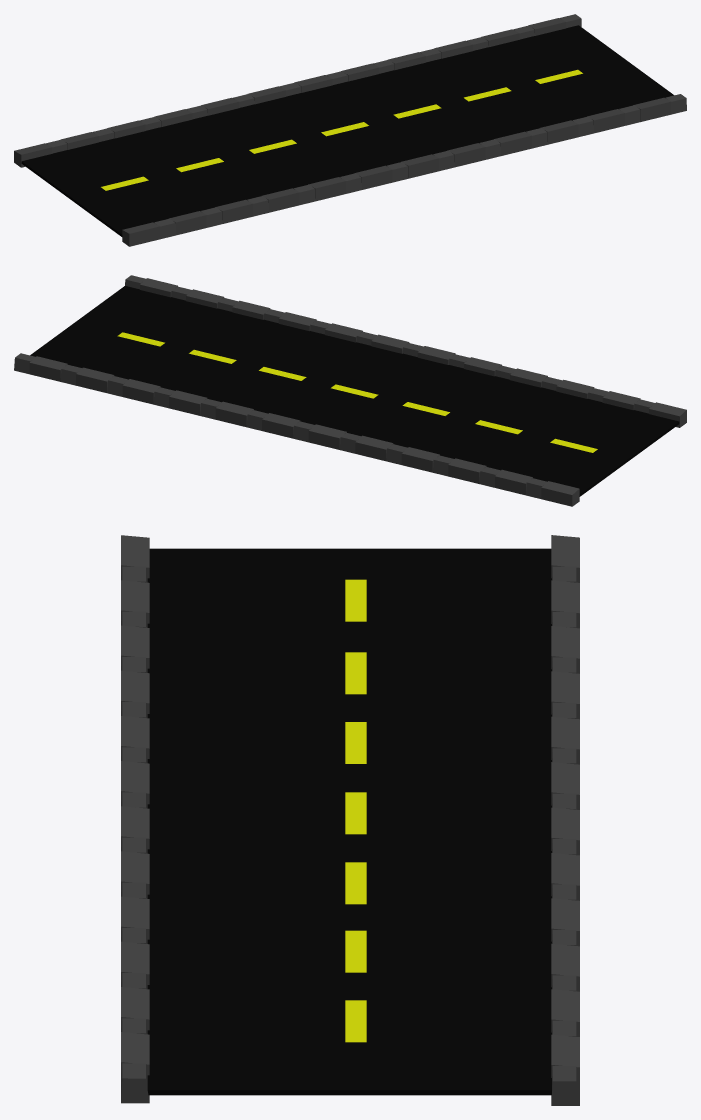
Rendered from Street.fbx.
The picture shows the model from 3 angles, top to bottom: view 1: azimuth 30°, elevation 25°; view 2: azimuth 150°, elevation 25°; view 3: azimuth 270°, elevation 25°; orthographic projection. The views are drawn at different scales.
Parts seen in each view (by area): view 1: Road, Cube.062, Cube.034; view 2: Road, Cube.034, Cube.062; view 3: Road, Cube.034, Cube.062, Line.001, Line.002, Line.003, Line.005, Line.006, Line.007, Line.004.
Boxes of the visible parts, left/top/right/bottom form: Road: left=21, top=25, right=673, bottom=236; Cube.062: left=122, top=94, right=686, bottom=246; Cube.034: left=14, top=14, right=581, bottom=167; Road: left=30, top=286, right=679, bottom=496; Cube.034: left=14, top=353, right=579, bottom=506; Cube.062: left=125, top=275, right=686, bottom=427; Road: left=147, top=548, right=551, bottom=1095; Cube.034: left=551, top=535, right=579, bottom=1105; Cube.062: left=121, top=535, right=149, bottom=1103; Line.001: left=345, top=579, right=366, bottom=621; Line.002: left=345, top=652, right=366, bottom=694; Line.003: left=345, top=792, right=366, bottom=834; Line.005: left=345, top=862, right=366, bottom=904; Line.006: left=345, top=930, right=366, bottom=972; Line.007: left=345, top=1000, right=366, bottom=1042; Line.004: left=345, top=722, right=366, bottom=763.
Size of the model in its own units: 9000 by 200 by 3204.
